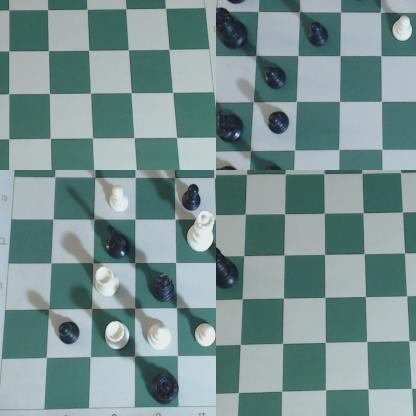black-bishop: (152, 271, 176, 305)
black-knight: (217, 108, 247, 147), (105, 225, 132, 259)
black-pawn: (56, 317, 88, 351), (178, 182, 211, 212), (304, 22, 332, 50), (265, 67, 289, 94), (268, 111, 293, 135), (259, 163, 288, 170)
black-queen: (217, 7, 250, 50), (217, 244, 242, 291), (151, 376, 181, 403)
white-bishop: (146, 321, 173, 352)
white-pawn: (109, 184, 135, 218), (194, 319, 216, 355), (393, 14, 415, 45)
white-queen: (187, 209, 216, 255)
white-rook: (104, 318, 132, 352), (95, 268, 122, 302)
